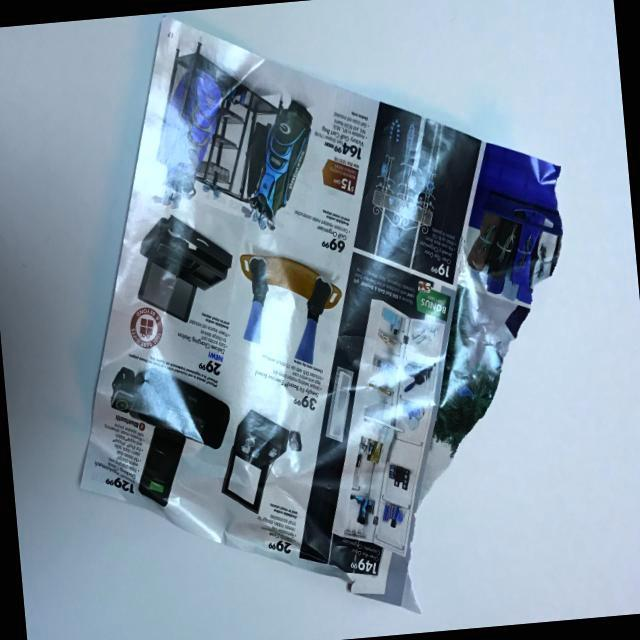paper: (36, 0, 598, 640)
